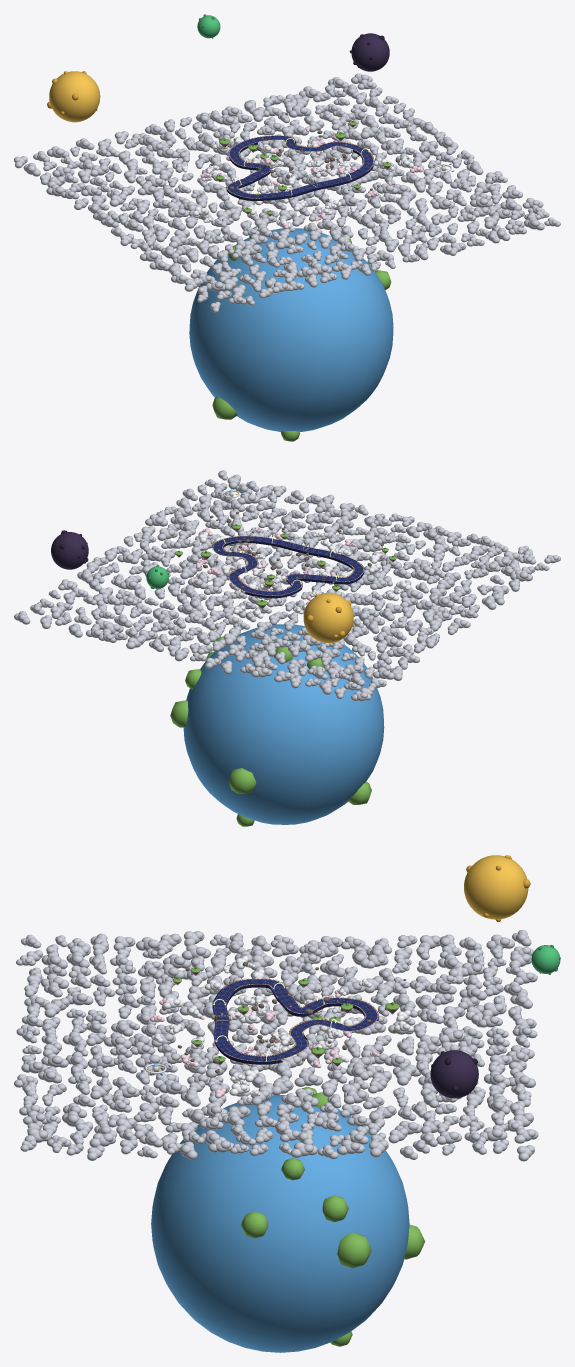
File: carreras_cielo.glb
3 renders of one model, top to bottom at view 1: azimuth 30°, elevation 25°; view 2: azimuth 150°, elevation 25°; view 3: azimuth 270°, elevation 25°, orthographic. The views are drawn at different scales.
Parts seen in each view (by area): view 1: cielo Tela | nube #E8ECF8 99 99, cielo Laca | luna #5FA8E0 0 0, cielo Laca | luna #F2C14E -1 1, cielo Laca | luna #3B2E4F 1 0, cielo Laca | crater #7DB857 0 0, cielo Tela | nube #F2F4FA -1 -1, cielo Tela | nube #F2F4FA 0 -1; view 2: cielo Tela | nube #E8ECF8 99 99, cielo Laca | luna #5FA8E0 0 0, cielo Laca | crater #7DB857 0 0, cielo Laca | luna #F2C14E -1 1, cielo Laca | luna #3B2E4F 1 0, cielo Tela | nube #F2F4FA -1 -1, cielo Tela | nube #F2F4FA 0 -1; view 3: cielo Tela | nube #E8ECF8 99 99, cielo Laca | luna #5FA8E0 0 0, cielo Laca | crater #7DB857 0 0, cielo Laca | luna #F2C14E -1 1, cielo Laca | luna #3B2E4F 1 0, cielo Tela | nube #F2F4FA -1 -1, cielo Tela | nube #F2F4FA 0 -1, cielo Laca | luna #4FBF7A 0 1, cielo Tela | nube #F2F4FA 0 0, cielo Tela | nube #F2F4FA -1 0.
Part boxes in pixels (x1,y1,x2,y2): cielo Tela | nube #E8ECF8 99 99: (14, 73, 560, 312); cielo Laca | luna #5FA8E0 0 0: (189, 228, 393, 431); cielo Laca | luna #F2C14E -1 1: (49, 71, 100, 122); cielo Laca | luna #3B2E4F 1 0: (351, 33, 389, 71); cielo Laca | crater #7DB857 0 0: (212, 226, 391, 441); cielo Tela | nube #F2F4FA -1 -1: (192, 184, 336, 228); cielo Tela | nube #F2F4FA 0 -1: (315, 156, 413, 212); cielo Tela | nube #E8ECF8 99 99: (14, 470, 560, 700); cielo Laca | luna #5FA8E0 0 0: (183, 624, 384, 824); cielo Laca | crater #7DB857 0 0: (170, 636, 371, 826); cielo Laca | luna #F2C14E -1 1: (303, 593, 353, 642); cielo Laca | luna #3B2E4F 1 0: (51, 532, 88, 569); cielo Tela | nube #F2F4FA -1 -1: (313, 540, 411, 600); cielo Tela | nube #F2F4FA 0 -1: (189, 531, 323, 565); cielo Tela | nube #E8ECF8 99 99: (14, 930, 538, 1161); cielo Laca | luna #5FA8E0 0 0: (151, 1095, 409, 1352); cielo Laca | crater #7DB857 0 0: (241, 1087, 425, 1346); cielo Laca | luna #F2C14E -1 1: (464, 855, 528, 919); cielo Laca | luna #3B2E4F 1 0: (430, 1050, 478, 1098); cielo Tela | nube #F2F4FA -1 -1: (162, 955, 266, 1034); cielo Tela | nube #F2F4FA 0 -1: (151, 1031, 280, 1095); cielo Laca | luna #4FBF7A 0 1: (531, 945, 560, 973); cielo Tela | nube #F2F4FA 0 0: (278, 1019, 359, 1062); cielo Tela | nube #F2F4FA -1 0: (303, 979, 414, 1033).
Size of the model in its own units: 632 by 544 by 659.
